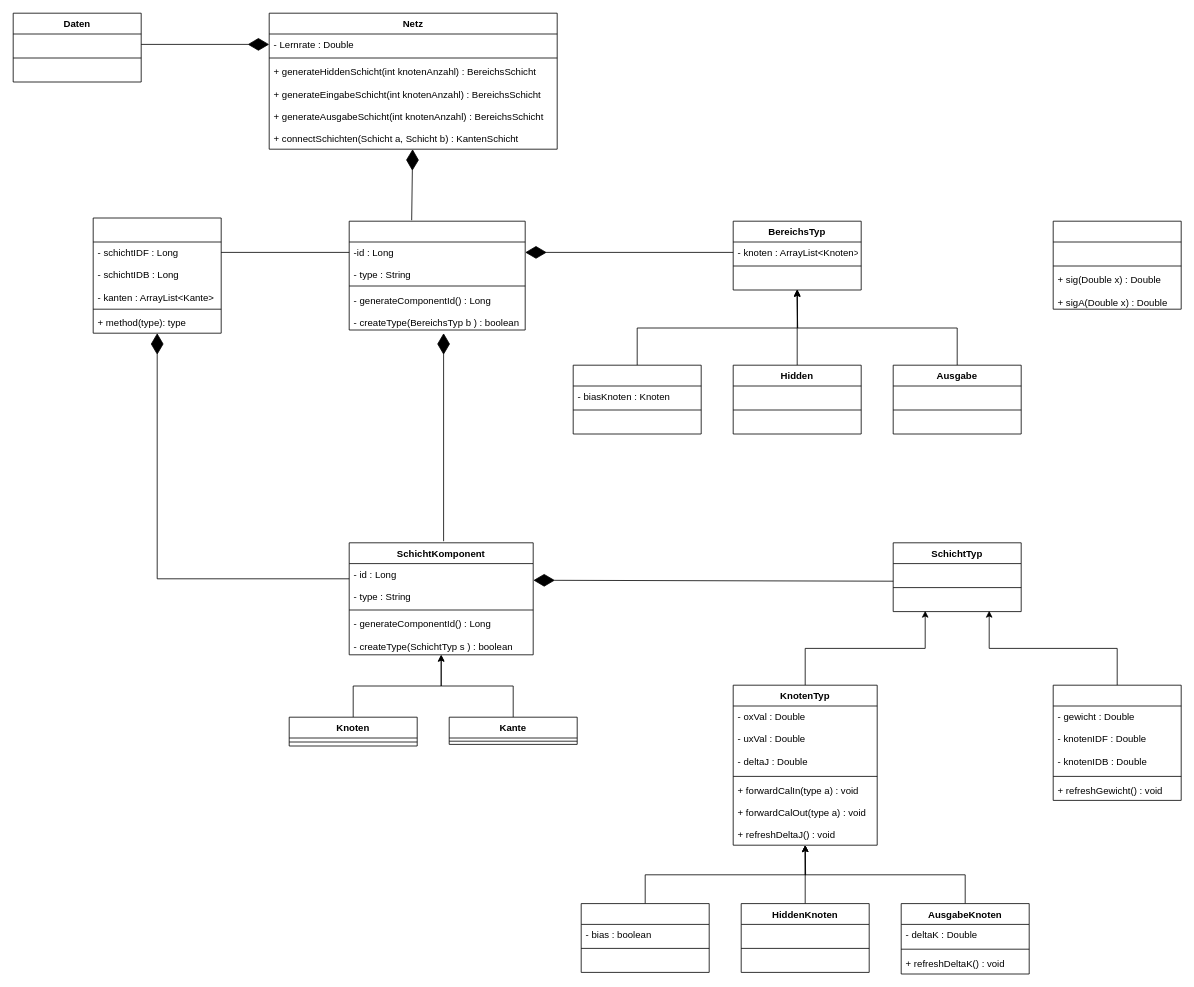
The diagram is 1194 pixels wide and 987 high, and some of its shapes have lost their labels. The shapes that lost their labels are listed below. From the top down, each one's box as (x1, y1, x2, y2) in pixels, then its label:
(92, 217, 221, 333): KantenSchicht
(348, 220, 525, 330): Schicht
(1052, 220, 1181, 309): EFC
(572, 364, 701, 434): Eingabe
(1052, 684, 1181, 800): KanteTyp
(580, 903, 709, 972): EingabeKnoten
